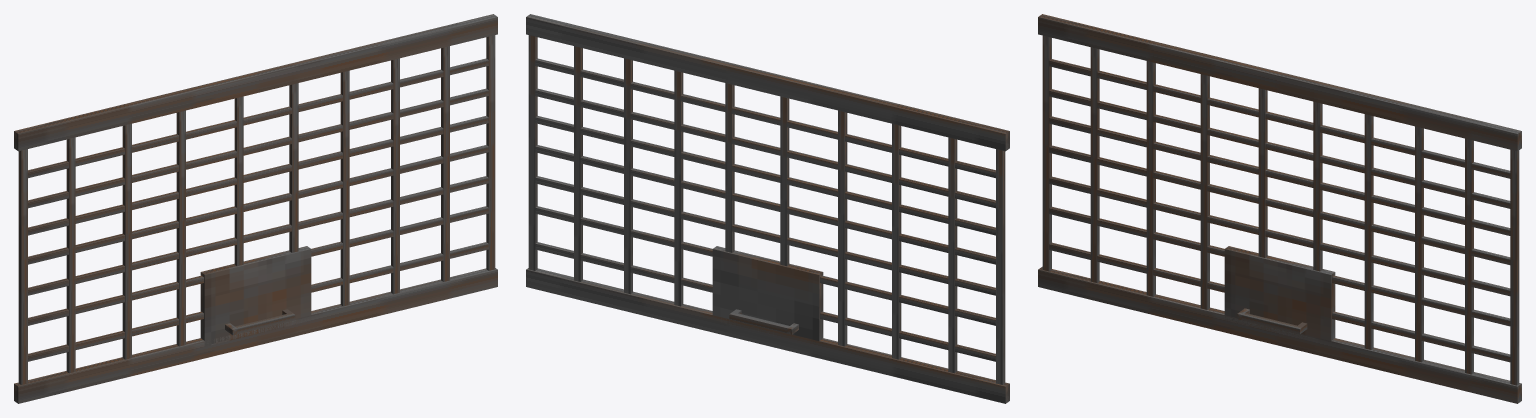
Rendered from SecurityGrate.fbx.
3 views of the same model, side by side, from view 1: azimuth 30°, elevation 25°; view 2: azimuth 150°, elevation 25°; view 3: azimuth 330°, elevation 25° (orthographic).
Parts seen in each view (by area): view 1: pCube12, pCube1, pCube20, pCube16, pCube14, pCube17, pCube13, pCube15, pCube19, pCube18, pCube4, pCube3 (+9 smaller); view 2: pCube12, pCube1, pCube20, pCube16, pCube14, pCube17, pCube13, pCube15, pCube19, pCube18, pCube4, pCube3 (+9 smaller); view 3: pCube12, pCube1, pCube20, pCube15, pCube14, pCube13, pCube16, pCube17, pCube18, pCube19, pCube3, pCube4 (+9 smaller).
Boxes of the visible parts, <box> form: pCube12: <box>14,14,497,151</box>; pCube1: <box>14,268,497,403</box>; pCube20: <box>200,246,311,346</box>; pCube16: <box>28,145,488,264</box>; pCube14: <box>28,88,488,208</box>; pCube17: <box>28,176,488,295</box>; pCube13: <box>28,58,488,178</box>; pCube15: <box>28,115,488,235</box>; pCube19: <box>28,242,488,361</box>; pCube18: <box>28,206,488,325</box>; pCube4: <box>18,149,27,384</box>; pCube3: <box>486,35,495,270</box>; pCube12: <box>526,14,1009,151</box>; pCube1: <box>526,268,1009,403</box>; pCube20: <box>712,246,823,340</box>; pCube16: <box>535,145,995,264</box>; pCube14: <box>535,88,995,208</box>; pCube17: <box>535,176,995,295</box>; pCube13: <box>535,58,995,178</box>; pCube15: <box>535,115,995,235</box>; pCube19: <box>535,242,995,361</box>; pCube18: <box>535,206,995,325</box>; pCube4: <box>996,149,1005,384</box>; pCube3: <box>528,35,537,270</box>; pCube12: <box>1038,14,1521,151</box>; pCube1: <box>1038,266,1521,403</box>; pCube20: <box>1224,246,1335,345</box>; pCube15: <box>1049,116,1510,235</box>; pCube14: <box>1049,89,1510,208</box>; pCube13: <box>1049,59,1510,178</box>; pCube16: <box>1049,145,1510,264</box>; pCube17: <box>1049,176,1510,296</box>; pCube18: <box>1049,206,1510,326</box>; pCube19: <box>1049,242,1510,362</box>; pCube3: <box>1510,149,1519,385</box>; pCube4: <box>1042,35,1051,271</box>.
Size of the model in its own units: 8 by 4.3 by 0.5386.
